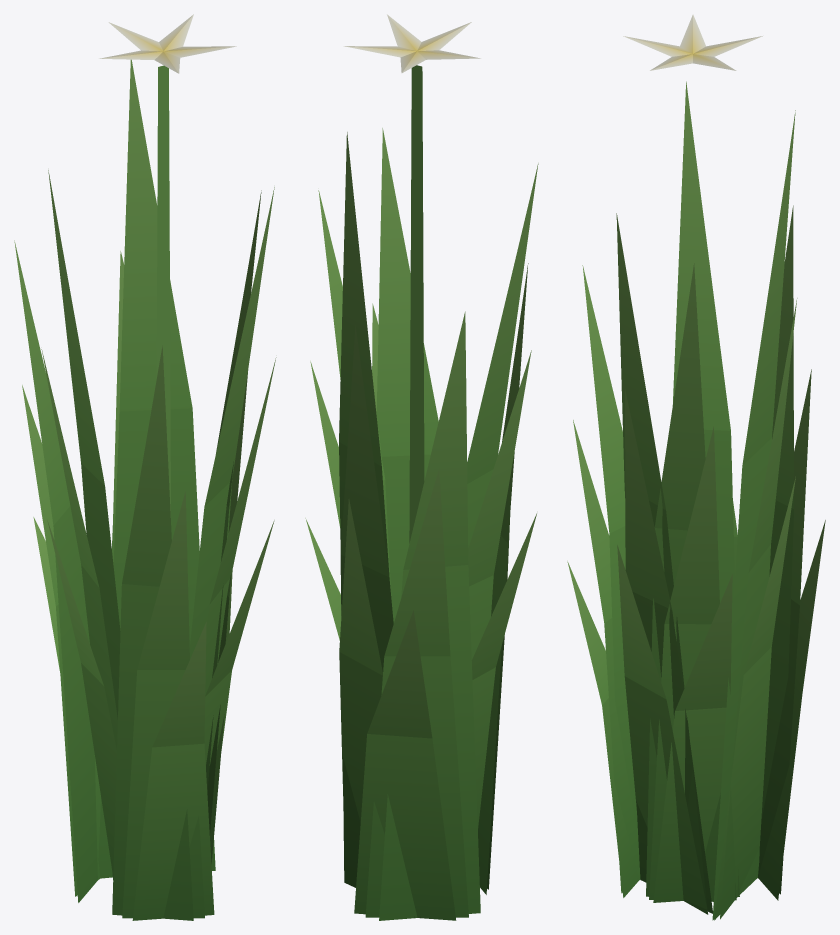
The model's file is grass_tufts.glb.
3 views of the same model, side by side, from view 1: azimuth 30°, elevation 25°; view 2: azimuth 150°, elevation 25°; view 3: azimuth 270°, elevation 25° (orthographic).
Parts seen in each view (by area): view 1: grass_flower, grass_medium, grass_short; view 2: grass_flower, grass_medium, grass_short; view 3: grass_flower, grass_short, grass_medium.
Boxes of the visible parts, x1,y1,x2,y2 form: grass_flower: (14, 14, 274, 920); grass_medium: (22, 251, 276, 918); grass_short: (33, 517, 274, 920); grass_flower: (318, 14, 538, 920); grass_medium: (310, 303, 531, 918); grass_short: (305, 499, 536, 920); grass_flower: (582, 14, 795, 920); grass_short: (567, 476, 825, 920); grass_medium: (573, 298, 811, 919).
Bounding box in the file's own units: 0.4021 × 1.5 × 0.4161.
